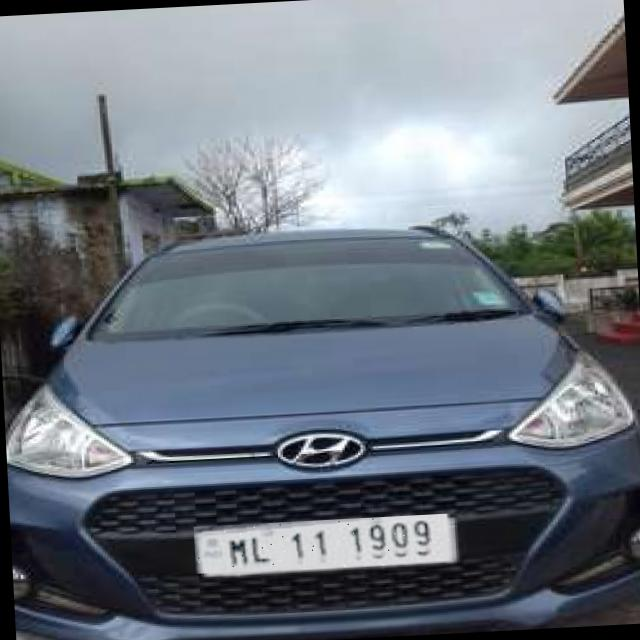Plate: (195, 515, 455, 575)
